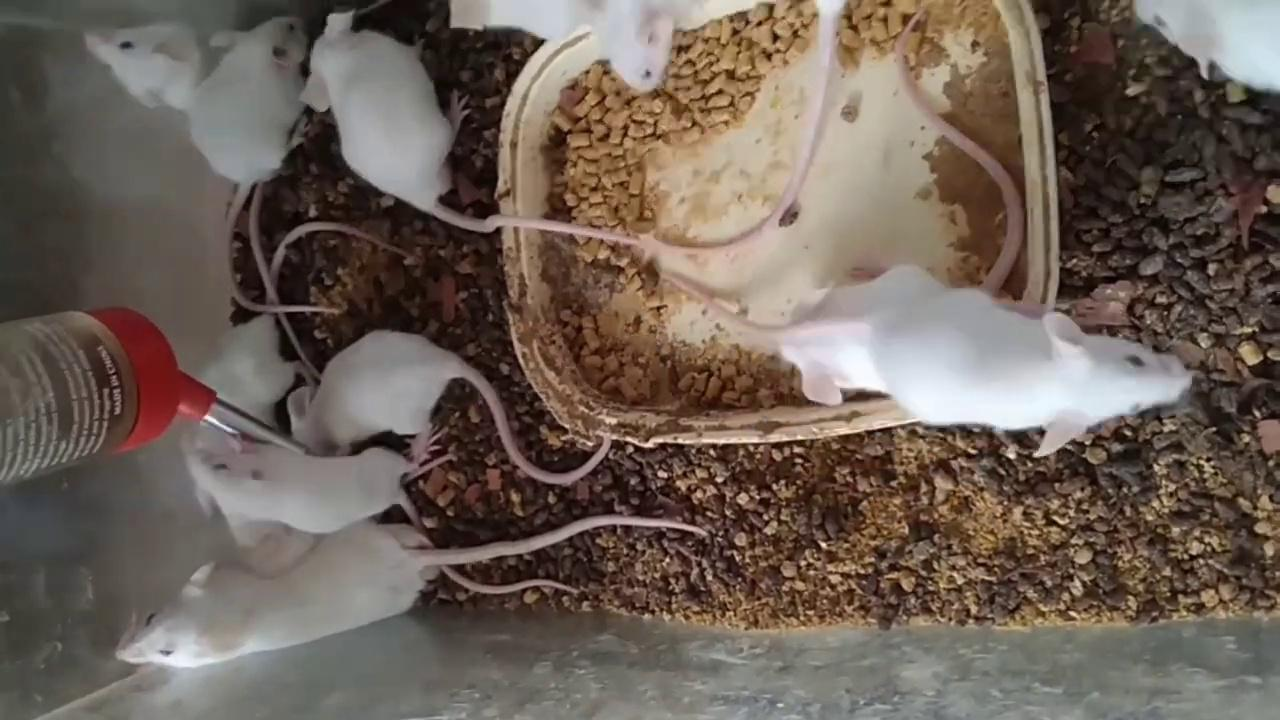rat: (659, 270, 1191, 456), (113, 515, 700, 667), (302, 10, 648, 246), (183, 439, 579, 594), (288, 330, 610, 484), (191, 16, 341, 315), (82, 30, 219, 105)
